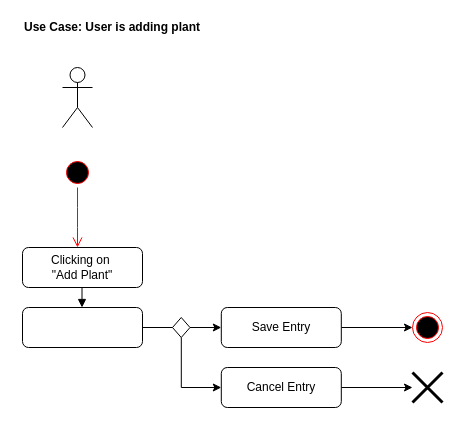
Image size: 461x425. Some labels were removed from this diagram. Each missing label, with the centre of its shape:
Actor: [77,97]
Adding information: [82,327]
